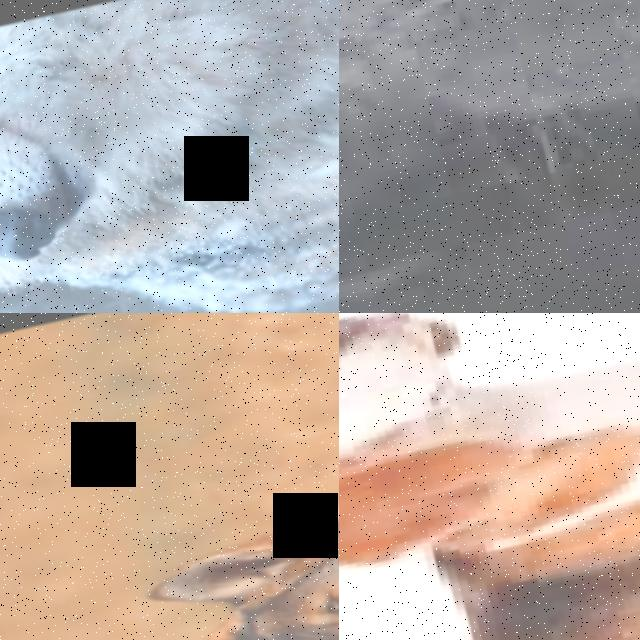dog: (339, 313, 640, 640), (339, 0, 640, 313)
wolf: (0, 0, 339, 313), (0, 366, 339, 640)
